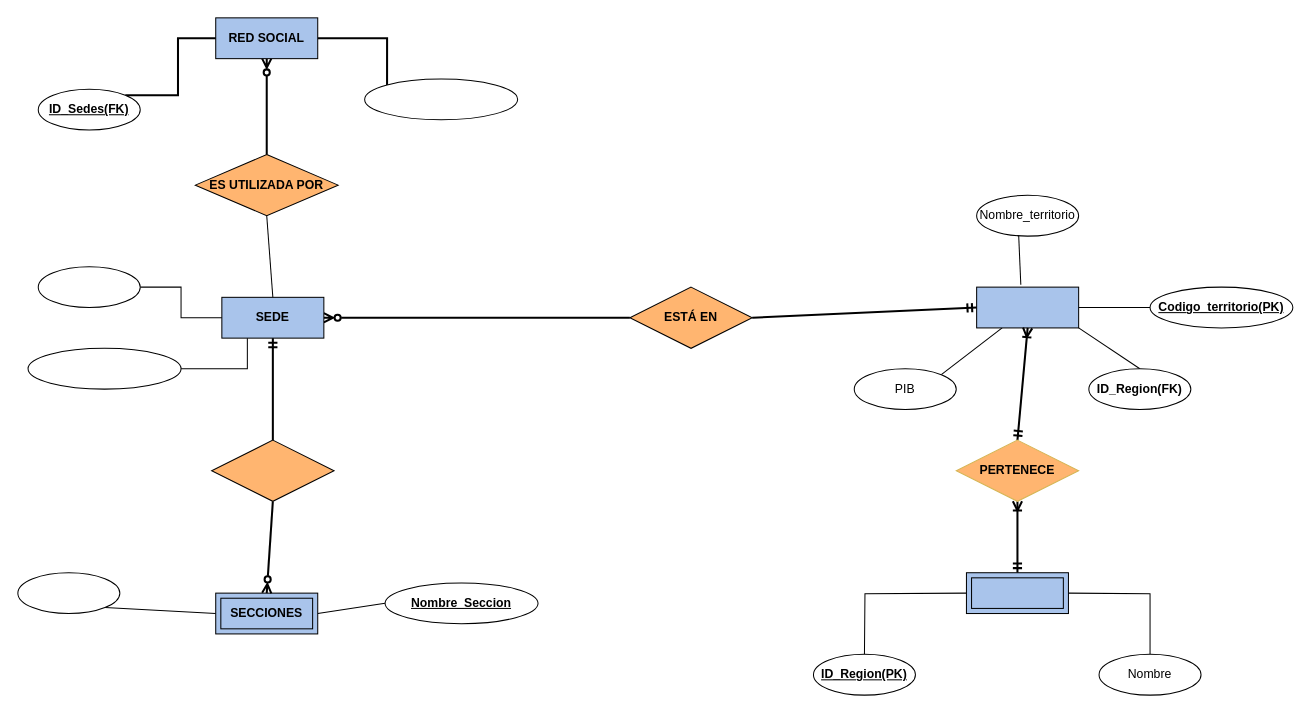
This 1311x713 diagram has some shape labels left out. Each missing label, with the centre of its shape:
"Codigo_territorio(FK)" belongs at point 104,368.
"ID_Sedes (FK)" belongs at point 68,593.
"ID_Sedes(PK)" belongs at point 88,287.
"REGION" belongs at point 1016,593.
"Territorio" belongs at point 1027,307.
"TIENE" belongs at point 272,470.
"URL" belongs at point 441,99.
